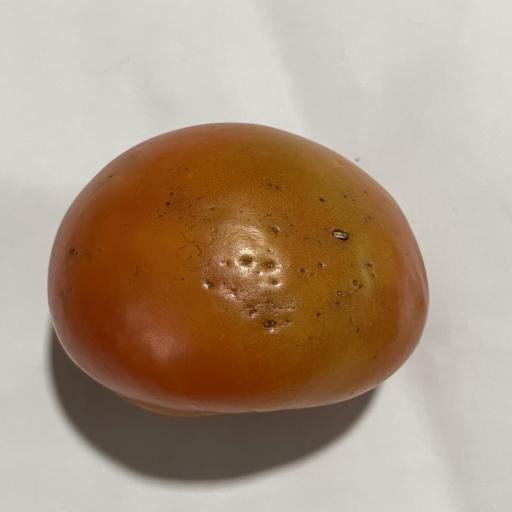unripe: (48, 123, 428, 416)
